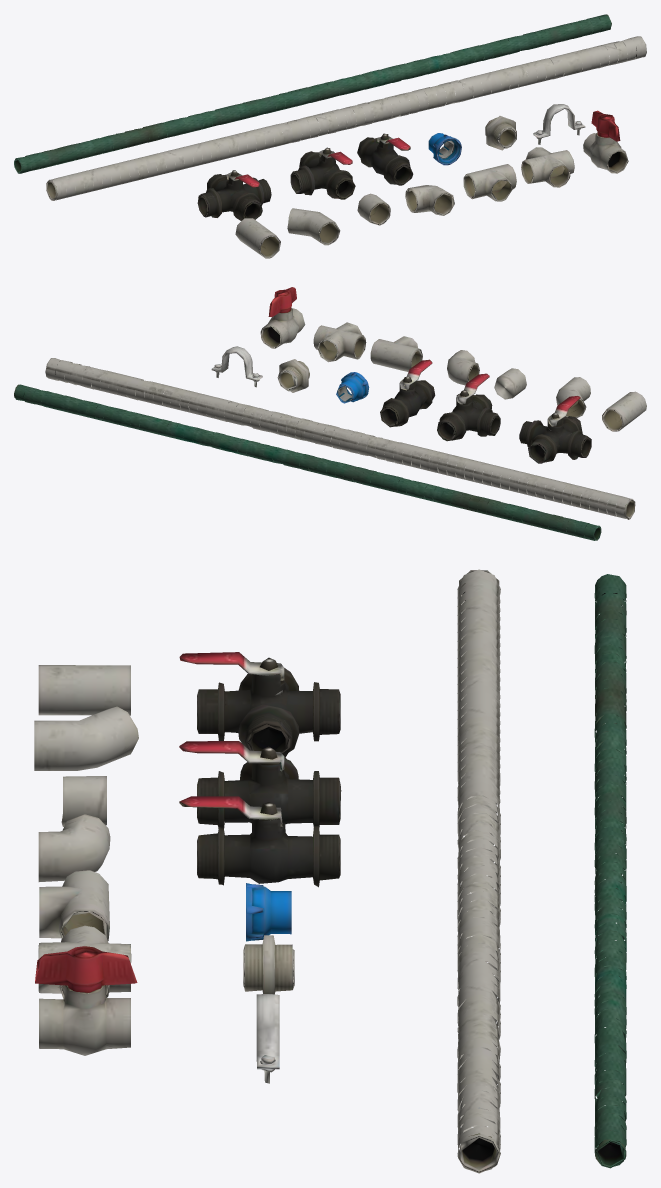
File: modular_pipes_plastic_01.glb
The picture shows the model from 3 angles, top to bottom: view 1: azimuth 30°, elevation 25°; view 2: azimuth 150°, elevation 25°; view 3: azimuth 270°, elevation 25°; orthographic projection. The views are drawn at different scales.
Parts seen in each view (by area): view 1: garden_pipe; view 2: garden_pipe; view 3: garden_pipe.
Boxes of the visible parts, left/top/right/bottom form: garden_pipe: left=14, top=14, right=646, bottom=258; garden_pipe: left=14, top=287, right=646, bottom=540; garden_pipe: left=34, top=569, right=626, bottom=1173.
Size of the model in its own units: 0.8148 by 0.0744 by 0.3606.
Materials: 1 (1 with a texture image).
